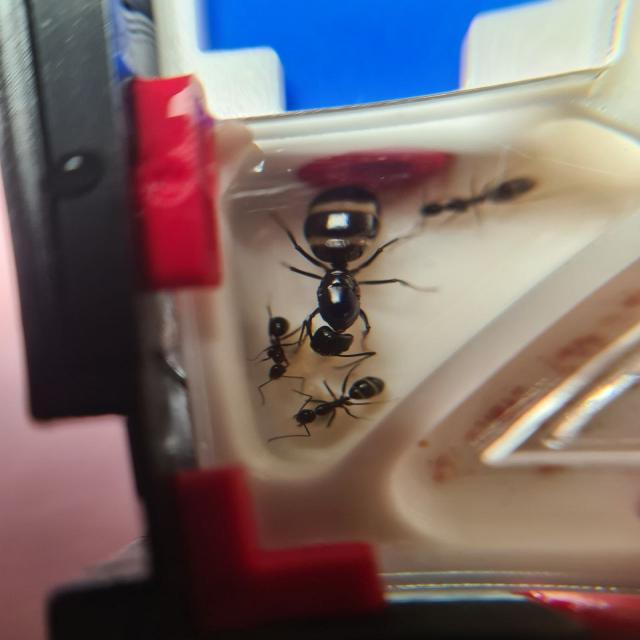Minor: (265, 360, 391, 443), (259, 316, 308, 396)
Queen: (268, 185, 436, 370)
